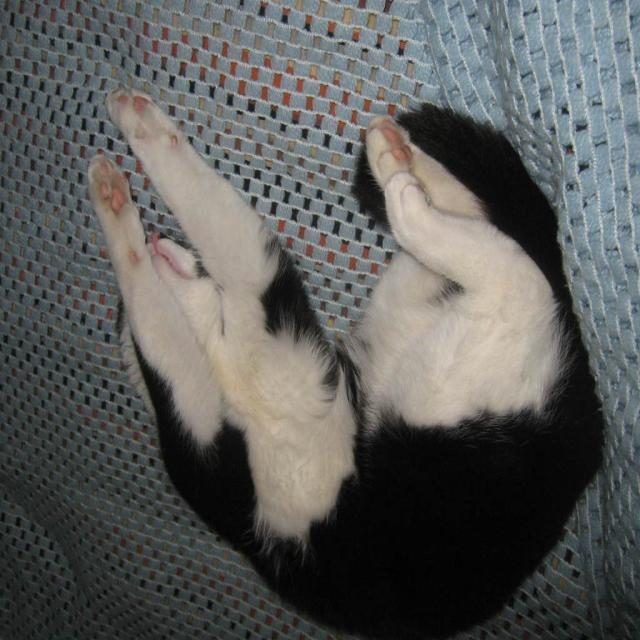Cat: (84, 87, 606, 638)
